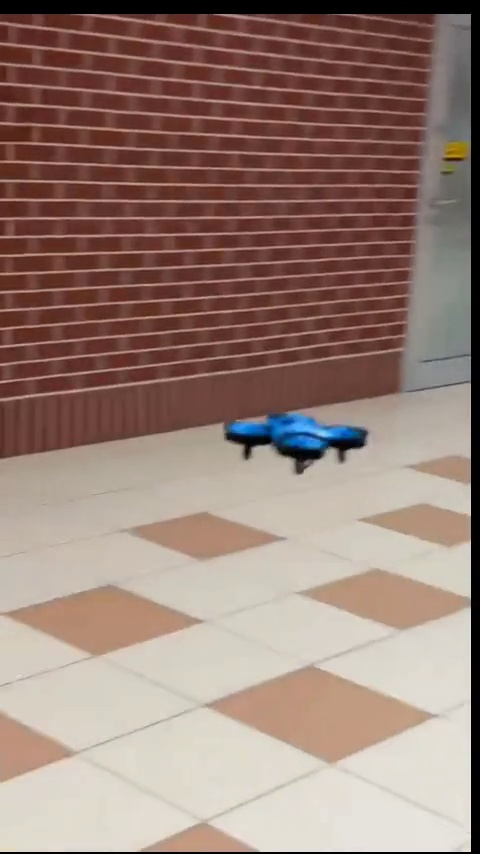drone: (223, 407, 381, 483)
